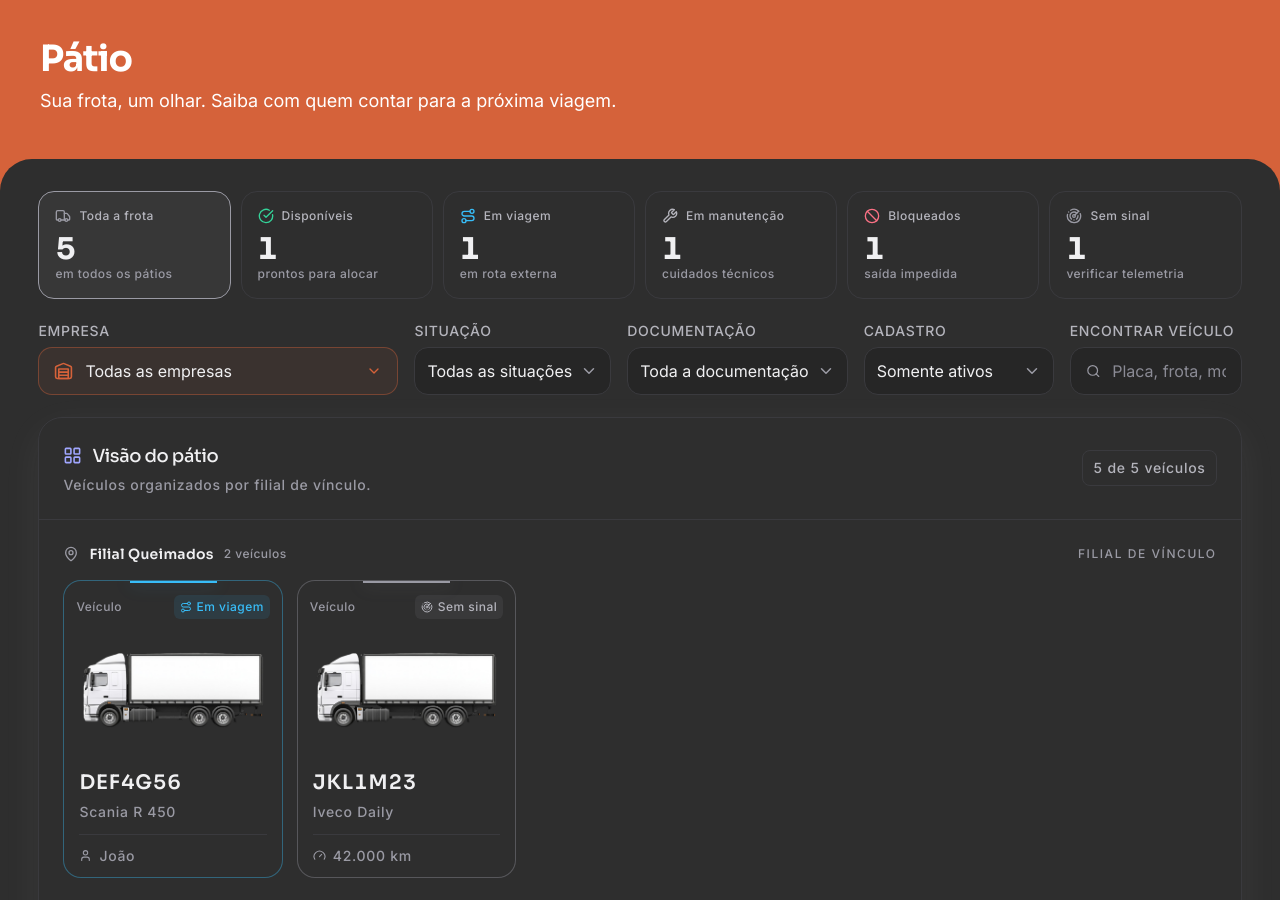
Pátio › filtra por situação pelo seletor, e não só pelos indicadores
This screenshot has width=1280, height=900.
Click the dropdown named "Situação": (513, 371) [414,347,611,395]
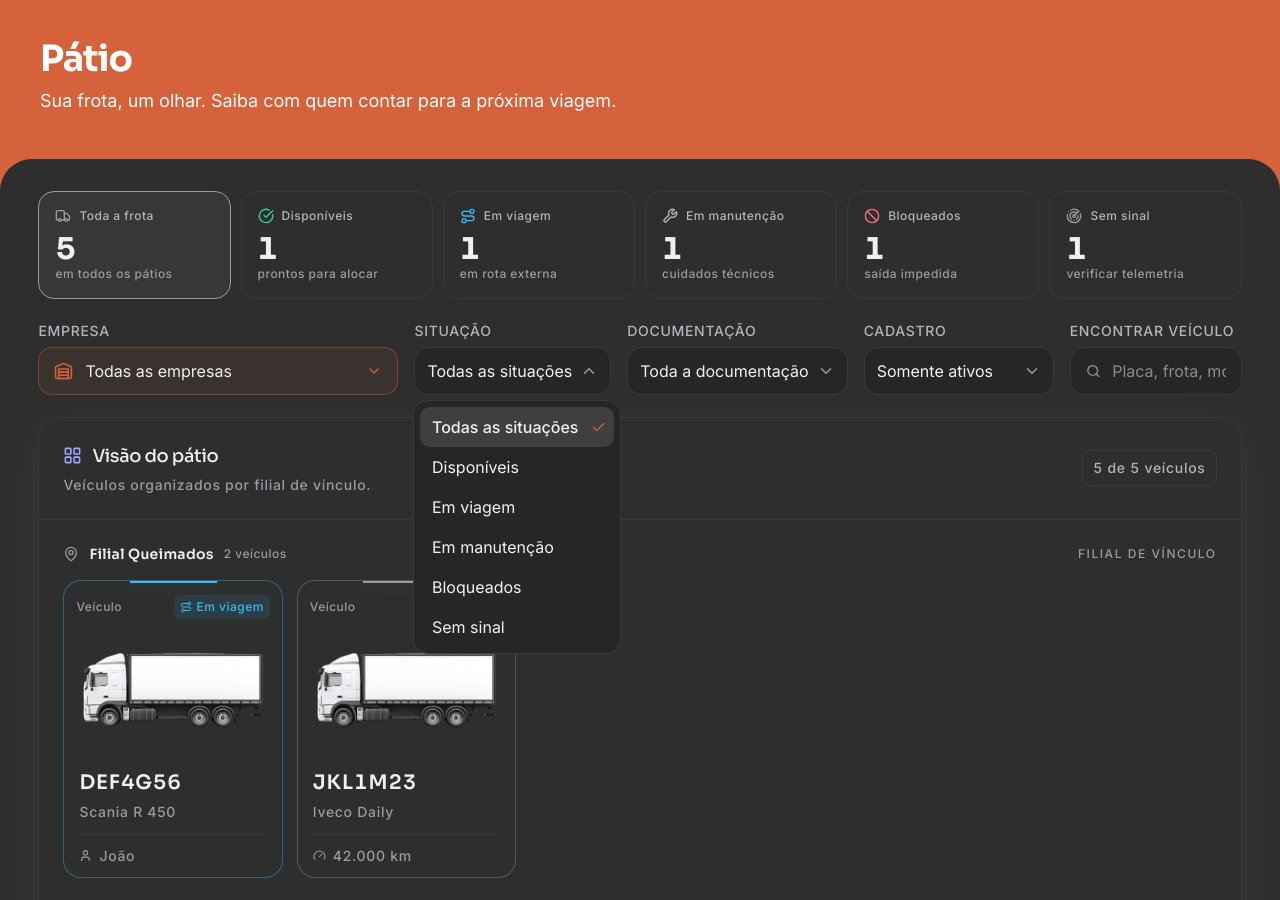
Click the option "Em viagem": (474, 507) [432,497,515,517]
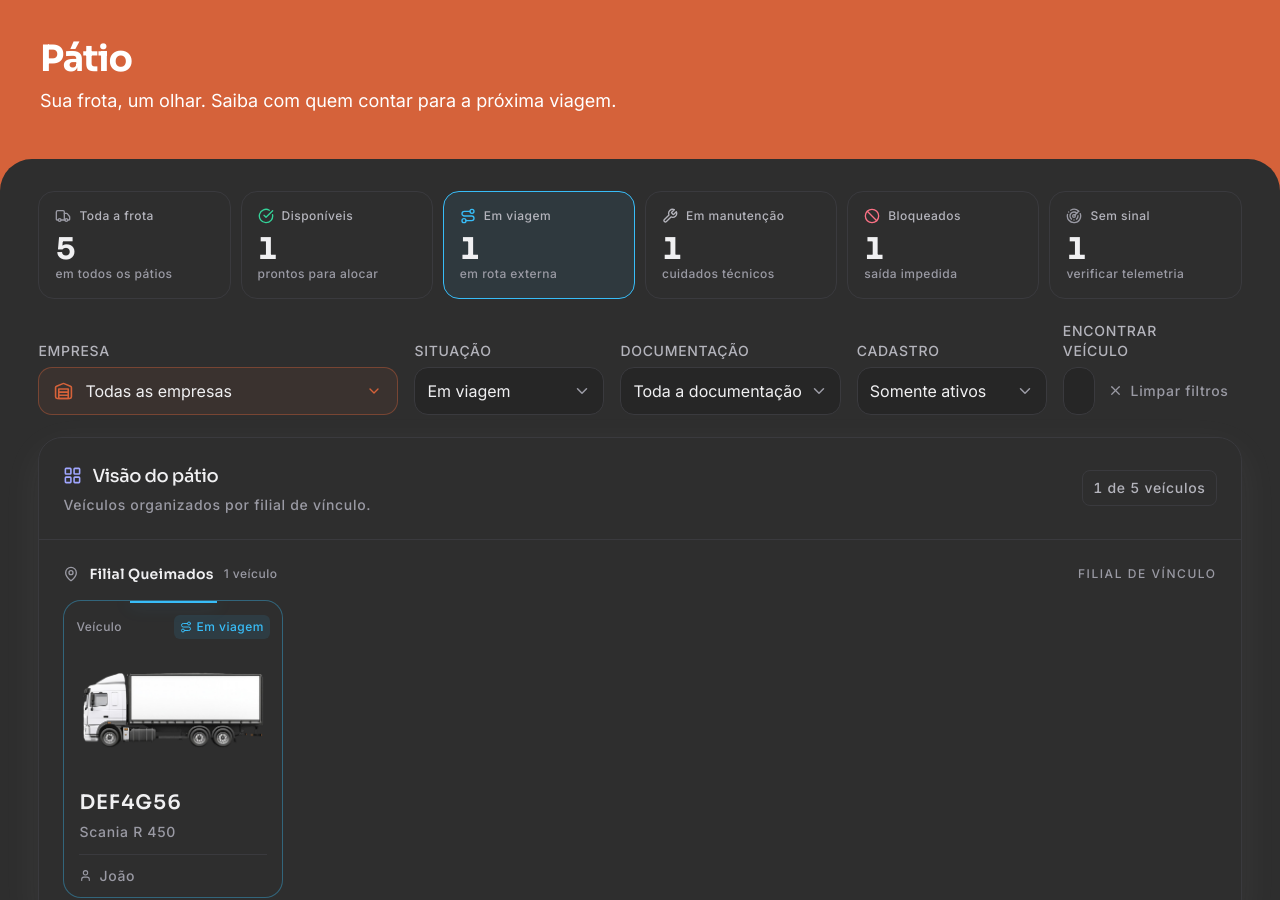
Result: the number of buttons "Veículo Em viagem DEF4G56 Scania R 450 João" is 1 at [63,600,283,898]
